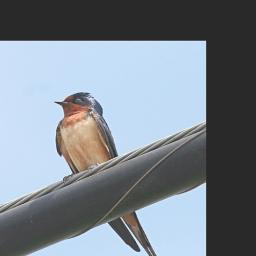Swallow: (53, 90, 172, 256)
